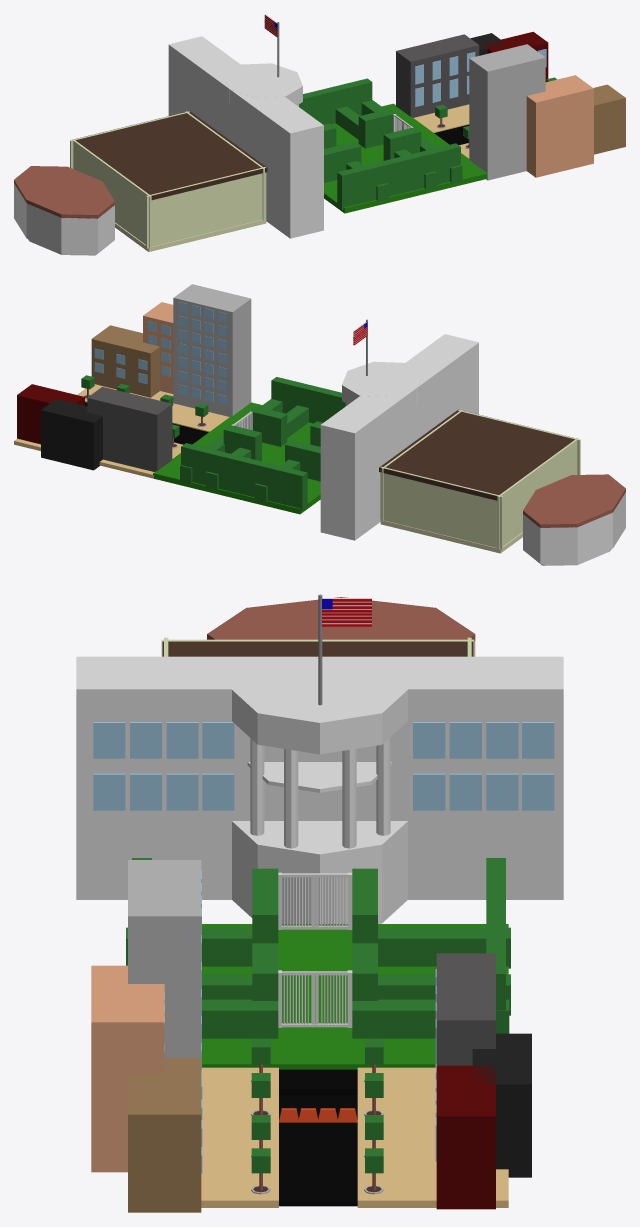
Rendered from Levels_.fbx.
3 views of the same model, one above another, from view 1: azimuth 30°, elevation 25°; view 2: azimuth 150°, elevation 25°; view 3: azimuth 270°, elevation 25° (orthographic). The views are drawn at different scales.
Visible parts, largest first — view 1: Cube.107, Cube.002, Cube.086, roof, Cube.019, Cube.021, Cube.004, Roof, Walls, Cube.082, Cylinder.017, Cube.020 (+6 smaller); view 2: Cube.107, Cube.002, roof, Cube.086, Cube.019, Cube.004, Roof, Walls, Cube.011, Cube.020, Cube.082, Cylinder.017 (+7 smaller); view 3: Cube.107, Cube.002, Cube.082, Cylinder.017, Cylinder.020, Cube.019, Cube.021, Cube.020, Cube.016, Road, Cube.017, Cube.010 (+29 smaller).
Part boxes in pixels (bbox=[...]): Cube.107: bbox=[168, 36, 323, 238]; Cube.002: bbox=[299, 78, 462, 209]; Cube.086: bbox=[70, 111, 266, 248]; roof: bbox=[74, 111, 267, 200]; Cube.019: bbox=[469, 44, 545, 180]; Cube.021: bbox=[526, 75, 593, 177]; Cube.004: bbox=[396, 34, 479, 117]; Roof: bbox=[14, 166, 114, 218]; Walls: bbox=[14, 183, 114, 255]; Cube.082: bbox=[324, 103, 487, 213]; Cylinder.017: bbox=[223, 63, 302, 105]; Cube.020: bbox=[593, 84, 625, 154]; Cube.107: bbox=[320, 334, 478, 540]; Cube.002: bbox=[180, 377, 345, 510]; roof: bbox=[379, 409, 576, 500]; Cube.086: bbox=[380, 410, 580, 550]; Cube.019: bbox=[173, 284, 251, 416]; Cube.004: bbox=[87, 387, 172, 471]; Roof: bbox=[523, 474, 625, 527]; Walls: bbox=[523, 492, 625, 565]; Cube.011: bbox=[41, 399, 102, 470]; Cube.020: bbox=[91, 325, 159, 397]; Cube.082: bbox=[153, 402, 320, 514]; Cylinder.017: bbox=[342, 361, 422, 404]; Cube.107: bbox=[76, 656, 563, 899]; Cube.002: bbox=[126, 858, 510, 1038]; Cube.082: bbox=[202, 924, 508, 1069]; Cylinder.017: bbox=[232, 656, 407, 754]; Cylinder.020: bbox=[232, 821, 407, 924]; Cube.019: bbox=[128, 860, 201, 1057]; Cube.021: bbox=[91, 965, 164, 1172]; Cube.020: bbox=[128, 1058, 201, 1212]; Cube.016: bbox=[357, 1067, 508, 1207]; Road: bbox=[278, 1069, 357, 1206]; Cube.017: bbox=[201, 1067, 278, 1207]; Cube.010: bbox=[436, 1065, 495, 1209].
Bounding box in the file's own units: 12724 × 3639 × 4914.
